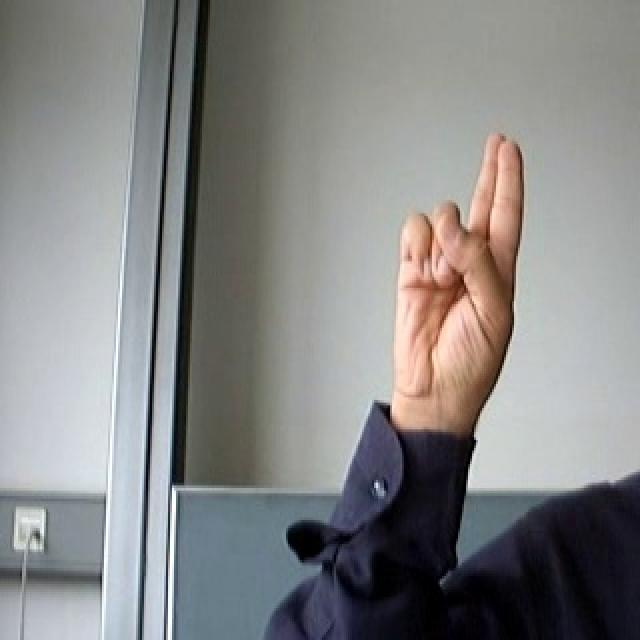R: (387, 120, 534, 414)
